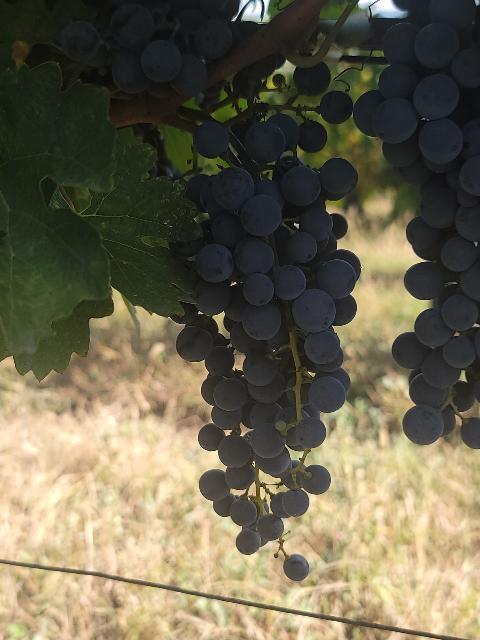grapes: (176, 140, 360, 581), (352, 0, 480, 449)
